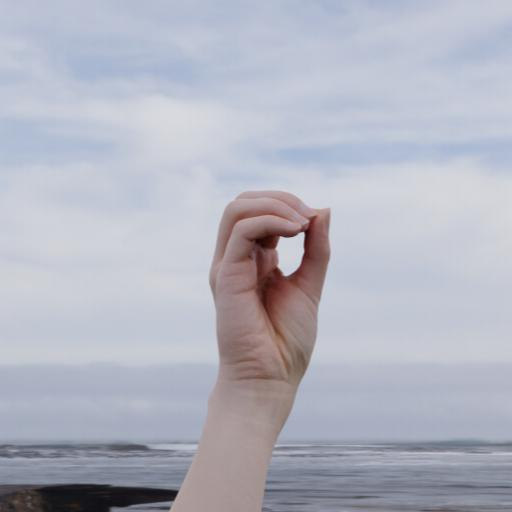O: (176, 150, 378, 438)
